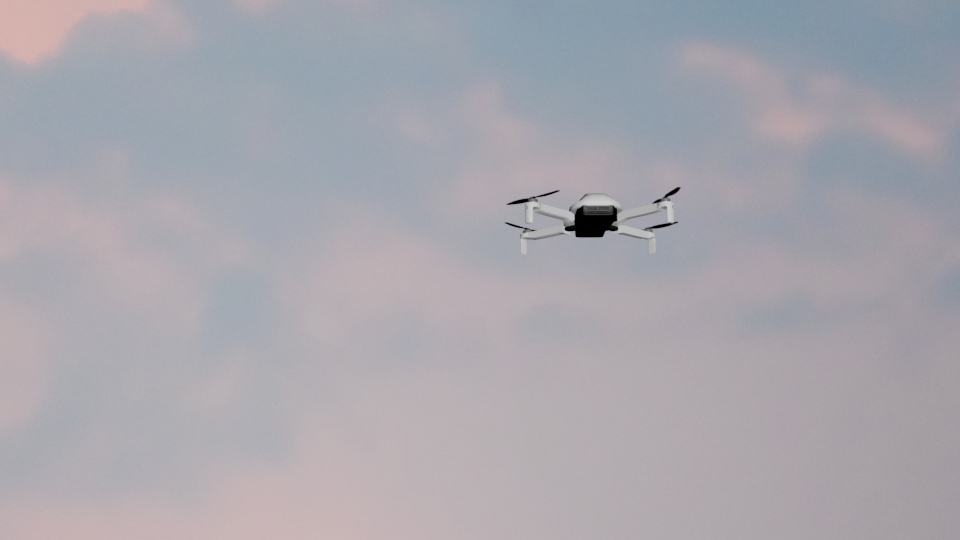drone: (507, 186, 679, 256)
